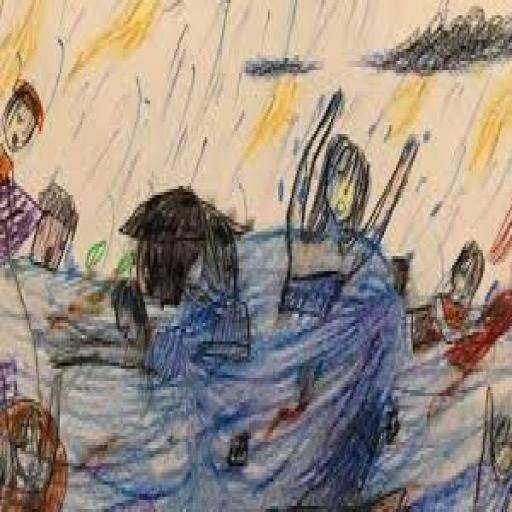person: (285, 91, 417, 330), (51, 261, 251, 391), (400, 235, 506, 367), (2, 65, 46, 215)
